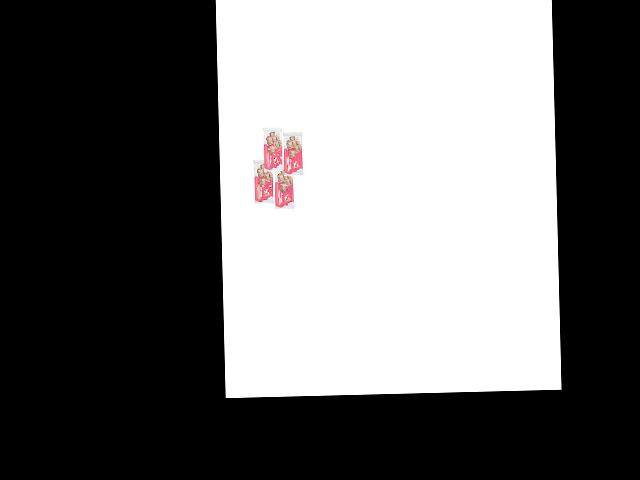chocolate: (251, 156, 277, 207)
